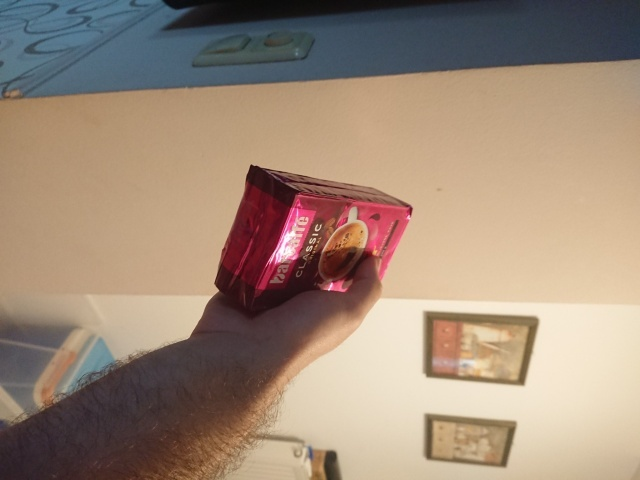Barcaffe Classic Original 225g: (212, 162, 416, 317)
